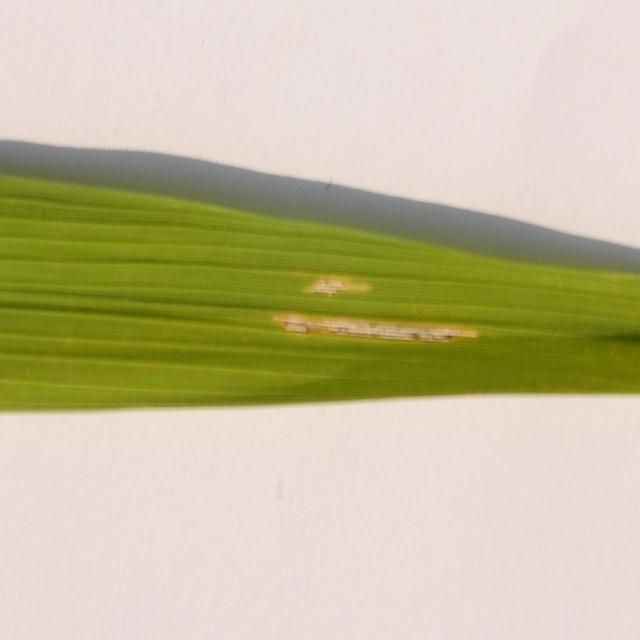Unhealthy: (272, 313, 479, 345), (303, 277, 371, 299)
